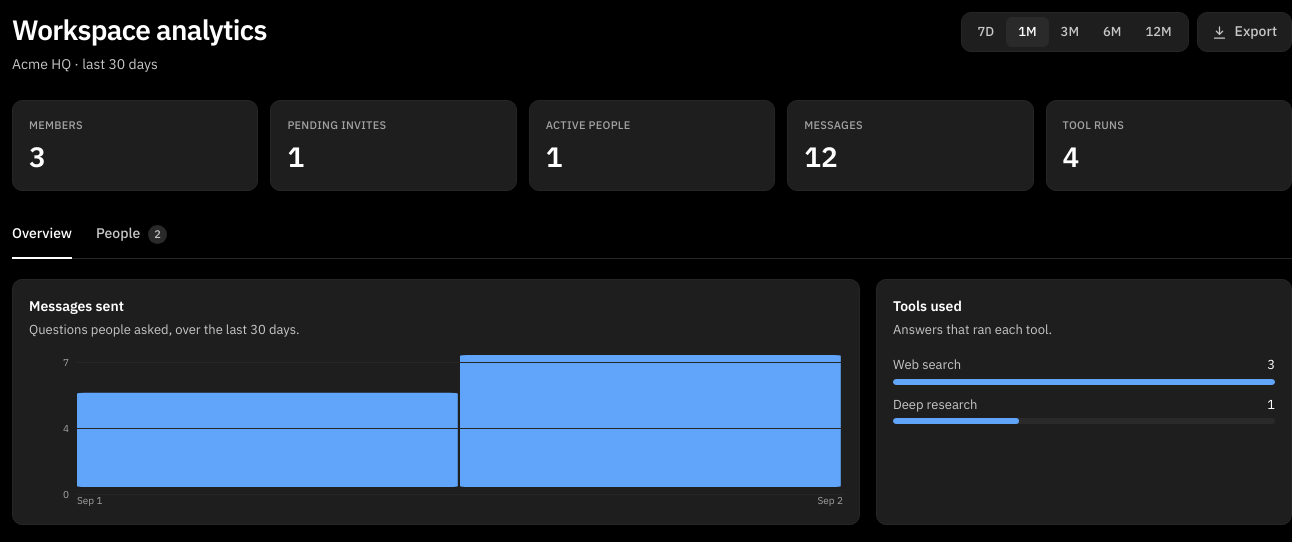
Test case: workspace analytics › lists members who used nothing under People
The width and height of the screenshot is (1292, 542).
Expected: the text "Acme HQ · last 30 days" is shown, [12,55,158,73]
Click the tab "People 2".
click(131, 239)  # box [96,219,167,259]
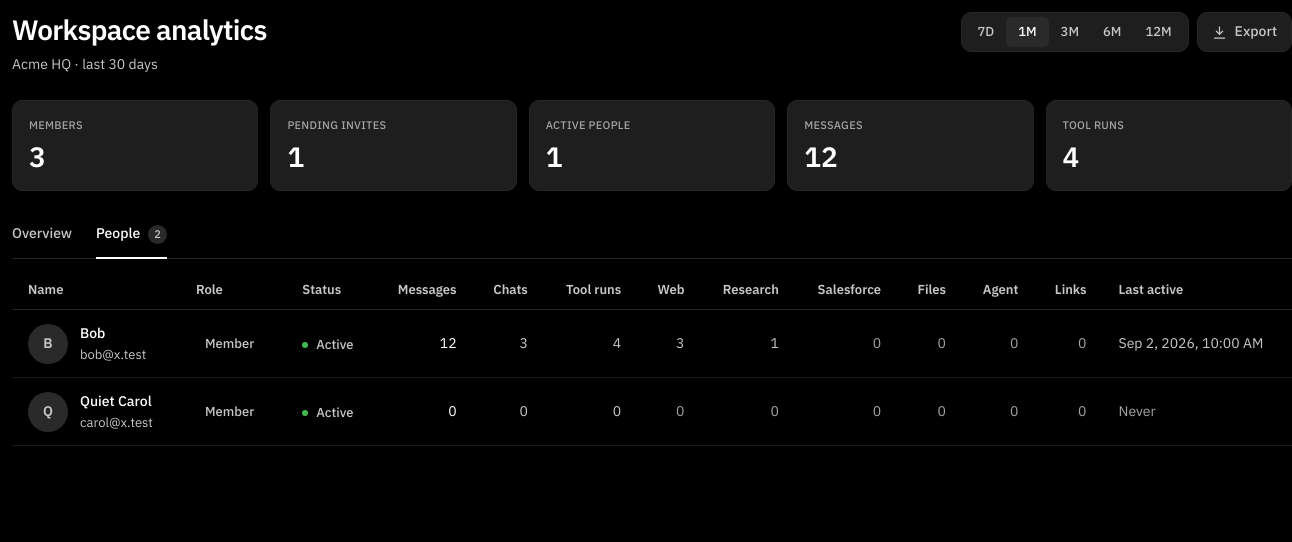
Expected: the text "Quiet Carol" is shown, [80,391,153,413]
Expected: the text "Bob" is shown, [80,324,105,342]
